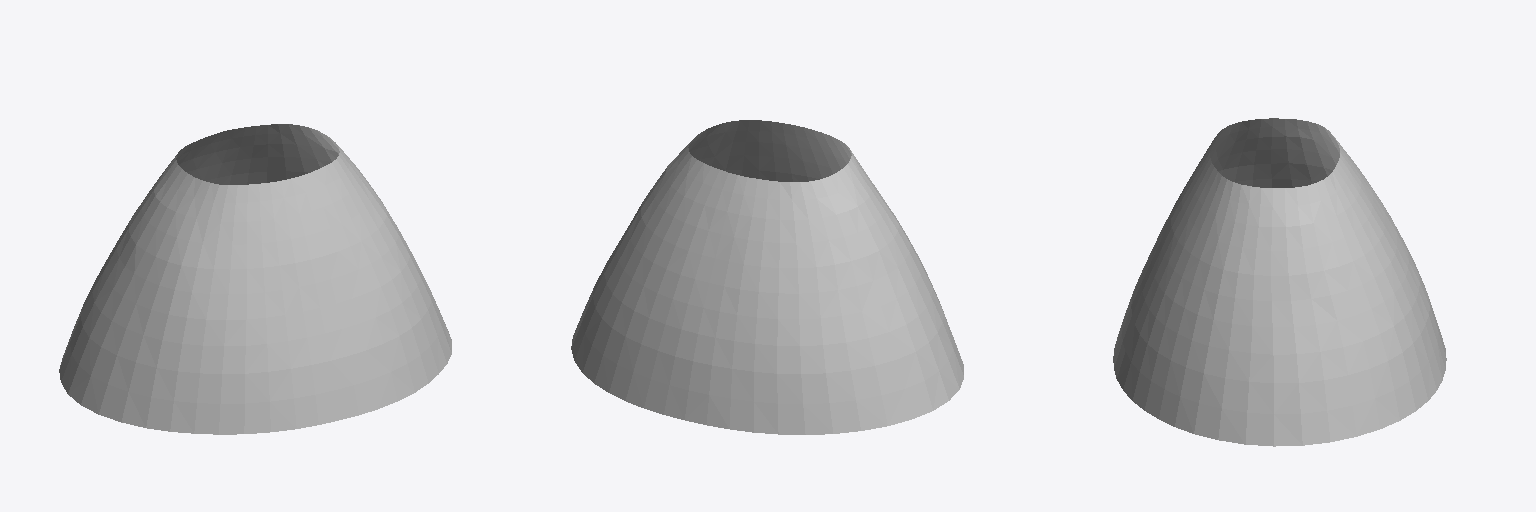
The model's file is 8_skirtshortfull.obj.
3 views of the same model, side by side, from view 1: azimuth 30°, elevation 25°; view 2: azimuth 150°, elevation 25°; view 3: azimuth 270°, elevation 25° (orthographic).
Visible parts, largest first — view 1: skirtfront, skirtbackleft, skirtback, skirtbackright; view 2: skirtback, skirtbackleft, skirtfront, skirtbackright; view 3: skirtfront, skirtbackright, skirtback, skirtbackleft.
Part boxes in pixels (bbox=[...]): skirtfront: bbox=[68, 135, 451, 434]; skirtbackleft: bbox=[59, 143, 191, 393]; skirtback: bbox=[177, 125, 267, 184]; skirtbackright: bbox=[267, 124, 339, 182]; skirtback: bbox=[609, 163, 779, 434]; skirtbackleft: bbox=[777, 173, 932, 434]; skirtfront: bbox=[688, 120, 963, 410]; skirtbackright: bbox=[571, 143, 703, 392]; skirtfront: bbox=[1113, 118, 1302, 446]; skirtbackright: bbox=[1285, 172, 1427, 445]; skirtback: bbox=[1333, 137, 1446, 400]; skirtbackleft: bbox=[1285, 119, 1339, 187].
Bounding box in the file's own units: 25.69 × 14.25 × 20.8.